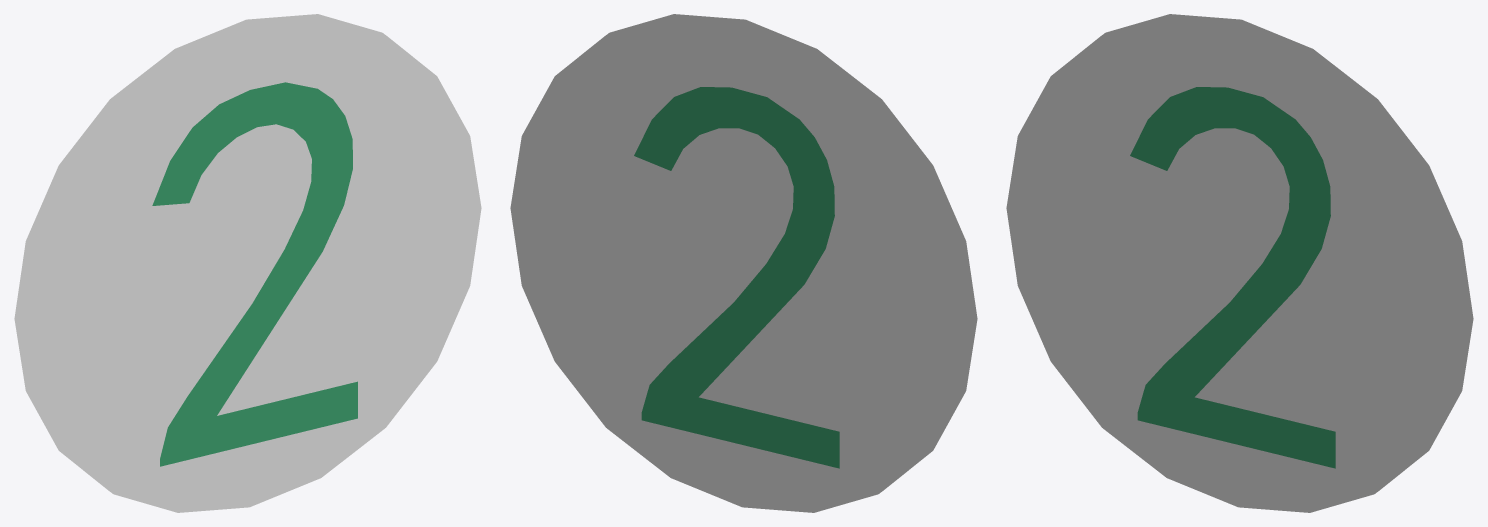
File: text_window2.fbx
3 renders of one model, left to right at view 1: azimuth 30°, elevation 25°; view 2: azimuth 150°, elevation 25°; view 3: azimuth 330°, elevation 25°, orthographic.
Visible parts, largest first — view 1: text_window2; view 2: text_window2; view 3: text_window2.
Boxes of the visible parts, x1,y1,x2,y2 form: text_window2: (14, 14, 481, 512); text_window2: (510, 14, 977, 512); text_window2: (1006, 14, 1473, 512).
Size of the model in its own units: 33.29 by 33.29 by 1.78.
